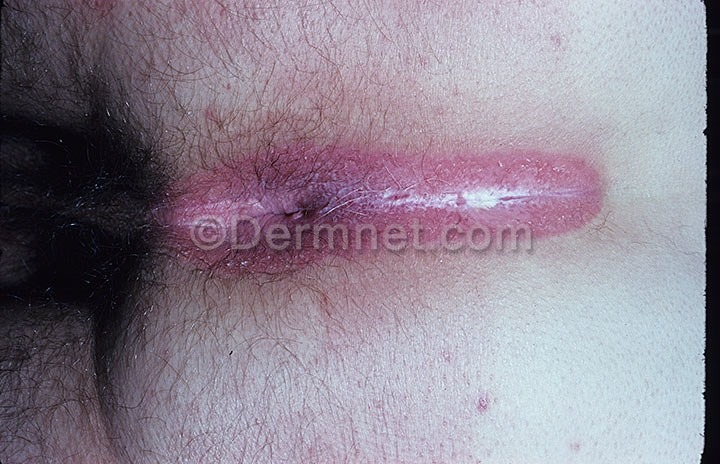Psoriasis: (163, 143, 612, 265)
